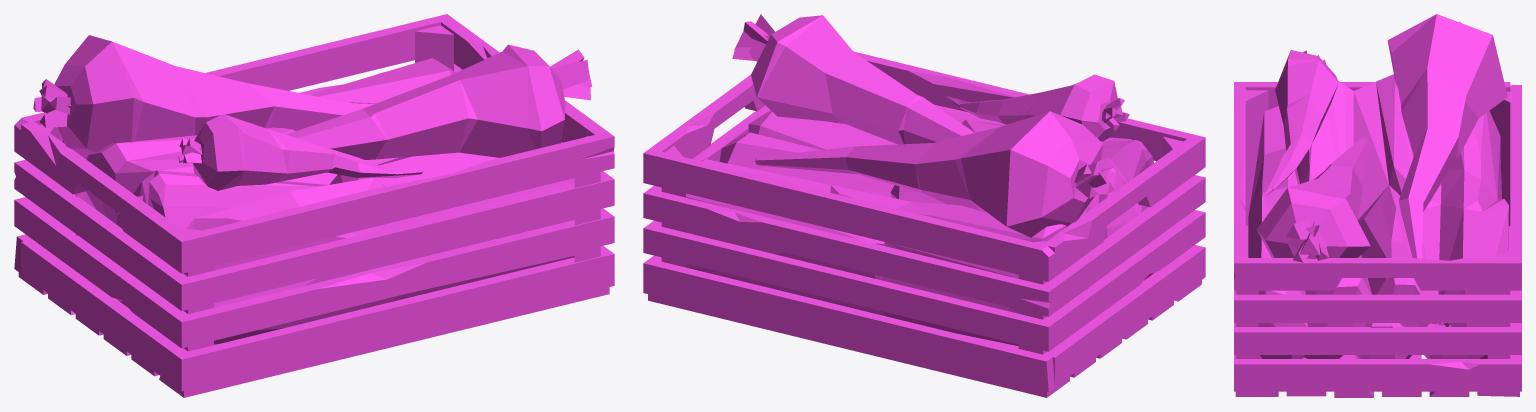
The model's file is SM_Crate_Wood_Medium_Parsnips.fbx.
3 views of the same model, side by side, from view 1: azimuth 30°, elevation 25°; view 2: azimuth 150°, elevation 25°; view 3: azimuth 270°, elevation 25° (orthographic). The views are drawn at different scales.
Parts seen in each view (by area): view 1: SM_Crate_Wood_Medium_Parsnips; view 2: SM_Crate_Wood_Medium_Parsnips; view 3: SM_Crate_Wood_Medium_Parsnips.
Part boxes in pixels (left/top/right/bottom): SM_Crate_Wood_Medium_Parsnips: left=14, top=14, right=614, bottom=397; SM_Crate_Wood_Medium_Parsnips: left=643, top=14, right=1205, bottom=397; SM_Crate_Wood_Medium_Parsnips: left=1234, top=14, right=1521, bottom=397.
Size of the model in its own units: 0.6623 by 0.348 by 0.4063.
